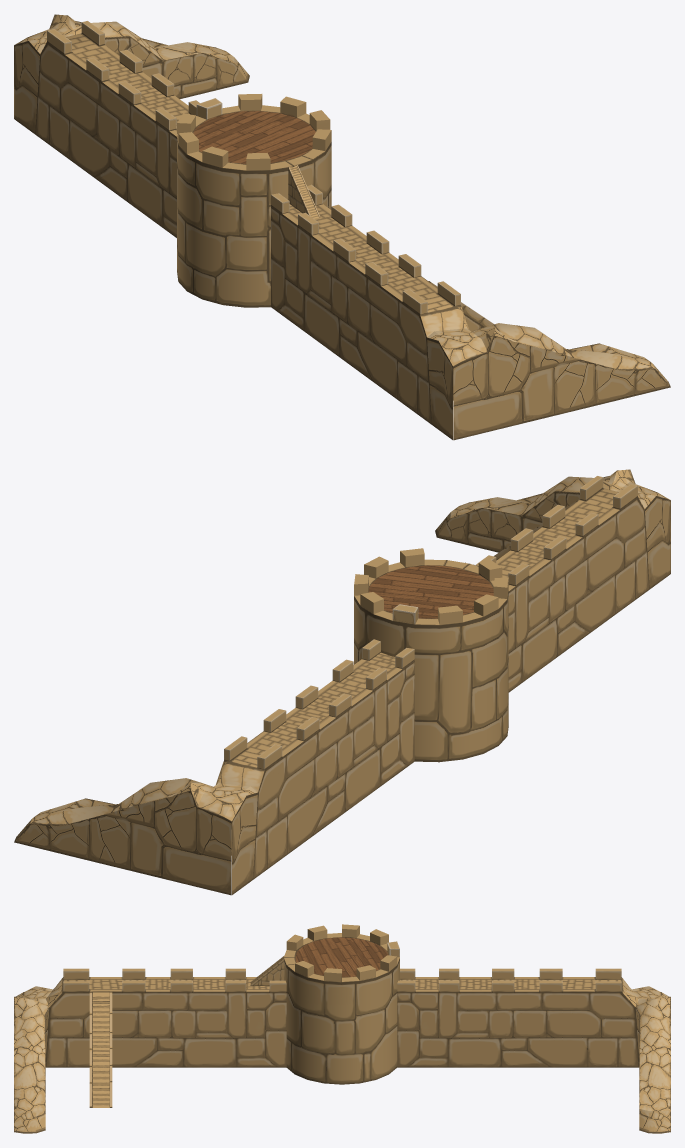
Rendered from MainCastle.fbx.
3 views of the same model, one above another, from view 1: azimuth 30°, elevation 25°; view 2: azimuth 150°, elevation 25°; view 3: azimuth 270°, elevation 25° (orthographic). The views are drawn at different scales.
Visible parts, largest first — view 1: pCube50, pCube51, pCylinder1, pCube36; view 2: pCube51, pCube50, pCylinder1; view 3: pCube51, pCube50, pCylinder1, pCube3, pCube36.
Part boxes in pixels (x1,y1,x2,y2): pCube50: (271, 184, 670, 440); pCube51: (14, 14, 249, 237); pCylinder1: (177, 94, 331, 307); pCube36: (288, 164, 319, 218); pCube51: (14, 639, 414, 895); pCube50: (435, 469, 670, 692); pCylinder1: (354, 548, 508, 762); pCube51: (397, 968, 670, 1133); pCube50: (14, 968, 286, 1133); pCylinder1: (283, 924, 399, 1084); pCube3: (89, 991, 112, 1107); pCube36: (250, 956, 284, 985).
Bounding box in the file's own units: 33.71 × 17.82 × 95.45.
